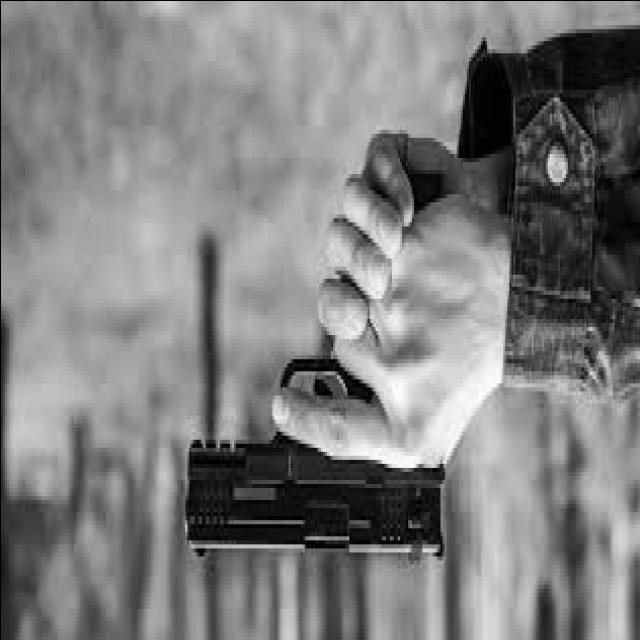weapons: (172, 249, 460, 579)
